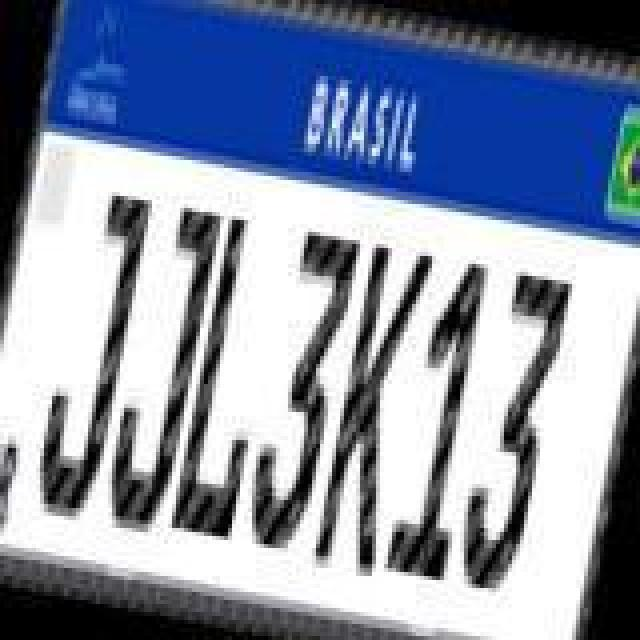1: (382, 252, 506, 588)
3: (236, 224, 364, 560), (450, 264, 574, 600)
J: (24, 184, 152, 528), (96, 196, 224, 540)
K: (308, 236, 436, 580)
L: (166, 208, 290, 544)
